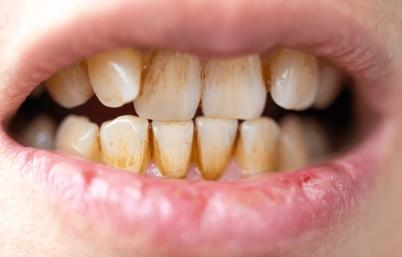Plaque: (180, 127, 227, 181), (137, 122, 173, 179), (133, 47, 159, 100), (254, 49, 283, 93)
